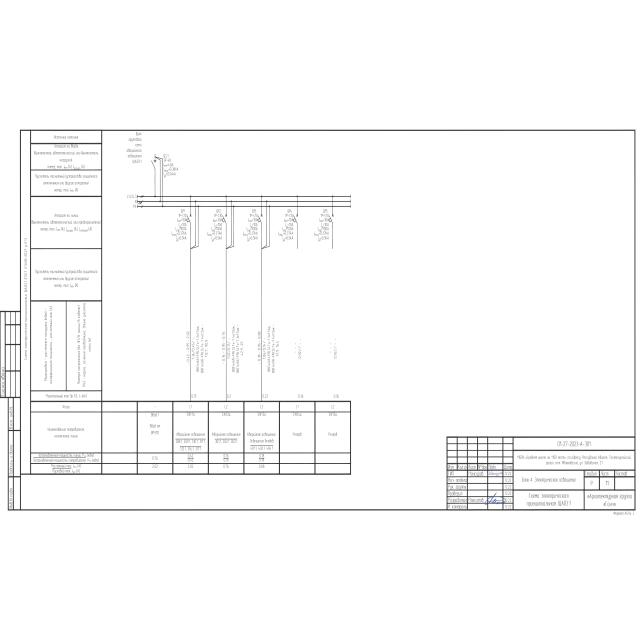-: (126, 132, 142, 164), (278, 214, 294, 244), (242, 213, 258, 243), (206, 214, 222, 244), (171, 213, 187, 242), (314, 214, 329, 244), (163, 158, 179, 178)
QF: (257, 213, 263, 225), (222, 213, 228, 225), (328, 213, 334, 225), (186, 214, 192, 225), (292, 213, 298, 224)
QW: (151, 160, 157, 169)
